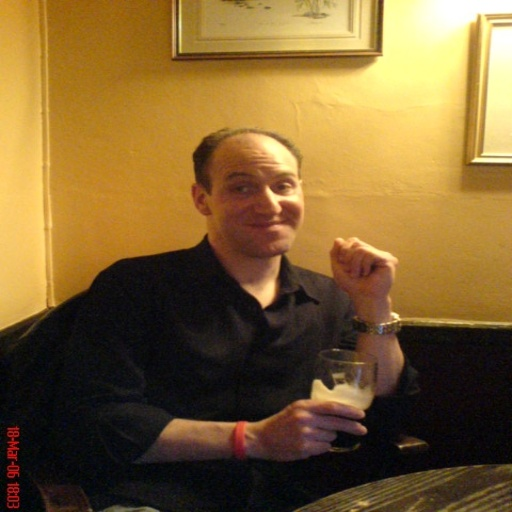hand: (328, 228, 409, 325), (258, 397, 370, 463)
